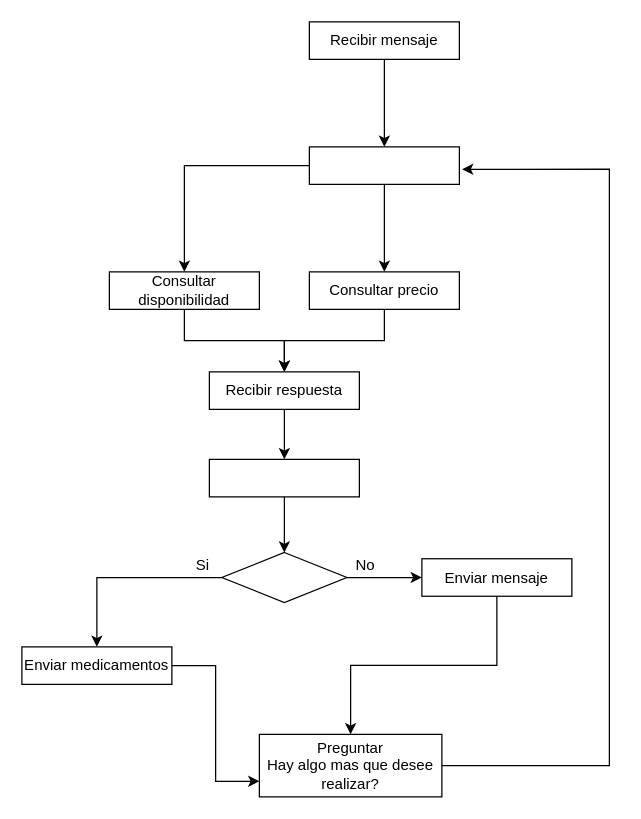
This 641x819 diagram has some shape labels left out. The centre of each missing label's shape, as x and y in pixels:
Buscar por coincidencia: point 283,477
Coincide?: point 284,576
Mostrar menú: point 383,165
